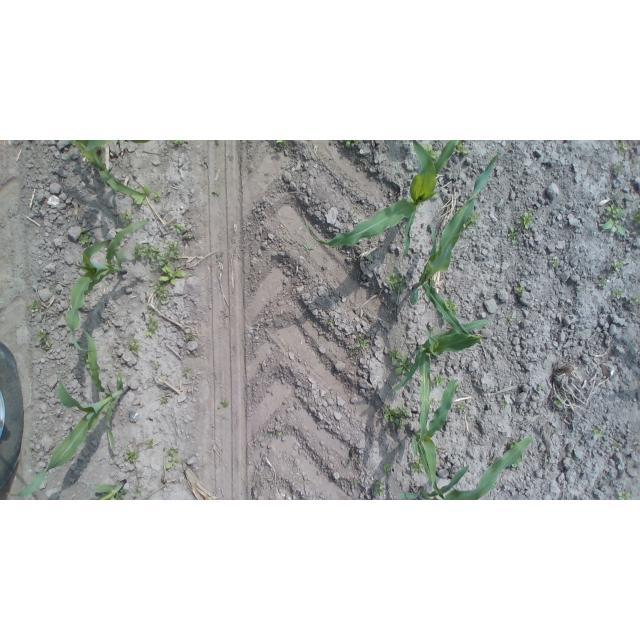Maize: (6, 330, 131, 499), (307, 140, 461, 261), (410, 153, 498, 339), (66, 220, 153, 353), (398, 435, 534, 500), (389, 318, 494, 392), (411, 352, 457, 498), (68, 140, 154, 196), (93, 479, 127, 500)
Weeds: (133, 240, 183, 268), (382, 404, 412, 429), (157, 266, 187, 285), (131, 185, 152, 207), (386, 272, 406, 293), (395, 352, 414, 374), (602, 220, 626, 237), (345, 446, 362, 470), (516, 207, 534, 229), (152, 283, 172, 299), (145, 316, 159, 338), (608, 203, 625, 219), (355, 334, 370, 349), (410, 458, 424, 474), (374, 479, 387, 496), (128, 339, 140, 357), (432, 372, 447, 386), (508, 225, 518, 246), (617, 140, 632, 154), (124, 450, 140, 463), (26, 299, 41, 312), (612, 258, 625, 272), (119, 211, 132, 225), (166, 457, 181, 469), (77, 233, 93, 244), (388, 349, 400, 363), (426, 144, 438, 158), (218, 398, 231, 410), (629, 209, 640, 223), (618, 490, 633, 500), (456, 144, 471, 154), (592, 427, 605, 438), (173, 223, 186, 234), (517, 284, 528, 296), (116, 489, 128, 500), (445, 299, 456, 310), (159, 395, 170, 406), (614, 288, 624, 300), (471, 212, 481, 223), (466, 219, 477, 229), (37, 331, 47, 342), (169, 446, 180, 456), (614, 162, 623, 174), (216, 251, 225, 263), (146, 438, 155, 450), (350, 476, 360, 486), (182, 367, 192, 377), (384, 463, 393, 474), (153, 190, 161, 202), (44, 341, 53, 351), (457, 402, 468, 410), (500, 399, 508, 410), (302, 244, 314, 251), (554, 400, 563, 409), (154, 361, 163, 370), (155, 297, 162, 308), (276, 141, 287, 148), (456, 384, 464, 393), (552, 259, 560, 268), (349, 348, 358, 356), (349, 209, 358, 217), (81, 354, 90, 362), (133, 487, 139, 499), (598, 280, 608, 287), (174, 140, 188, 145), (632, 294, 640, 302), (327, 318, 335, 326), (506, 315, 515, 322), (213, 190, 222, 197), (539, 382, 546, 390), (513, 436, 520, 444), (366, 256, 372, 265), (186, 334, 195, 340), (432, 397, 439, 404), (612, 441, 619, 448), (344, 141, 351, 148), (276, 430, 283, 437), (150, 308, 157, 315), (354, 141, 363, 146), (617, 190, 623, 197), (519, 458, 527, 463), (430, 328, 435, 336), (265, 431, 271, 437), (352, 255, 357, 262), (224, 309, 229, 316), (81, 228, 88, 232), (102, 234, 106, 238), (215, 140, 219, 144)
